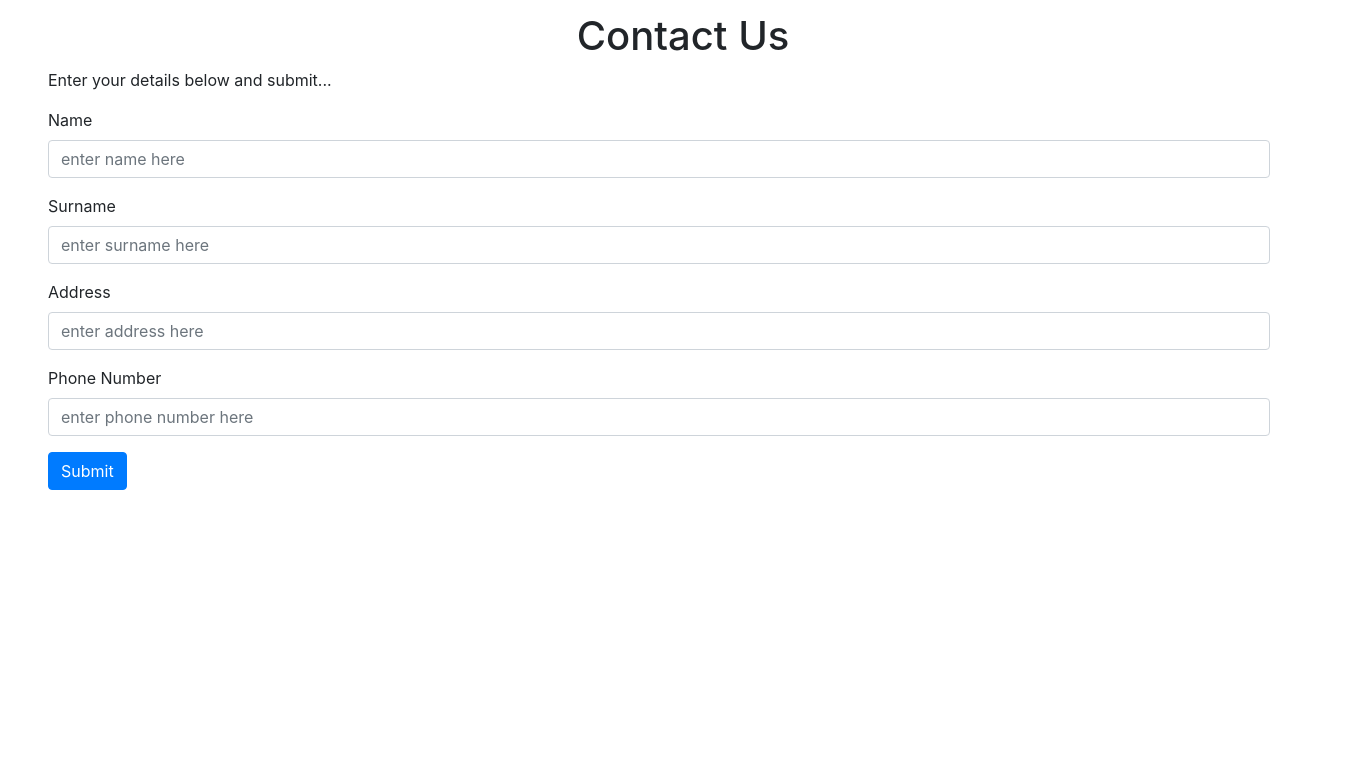
Test case: Contact store › Enter all details into form
This screenshot has width=1366, height=780.
Step 1. Type "Habib" into the field labelled "Name" → (659,159), box [48,140,1270,178]
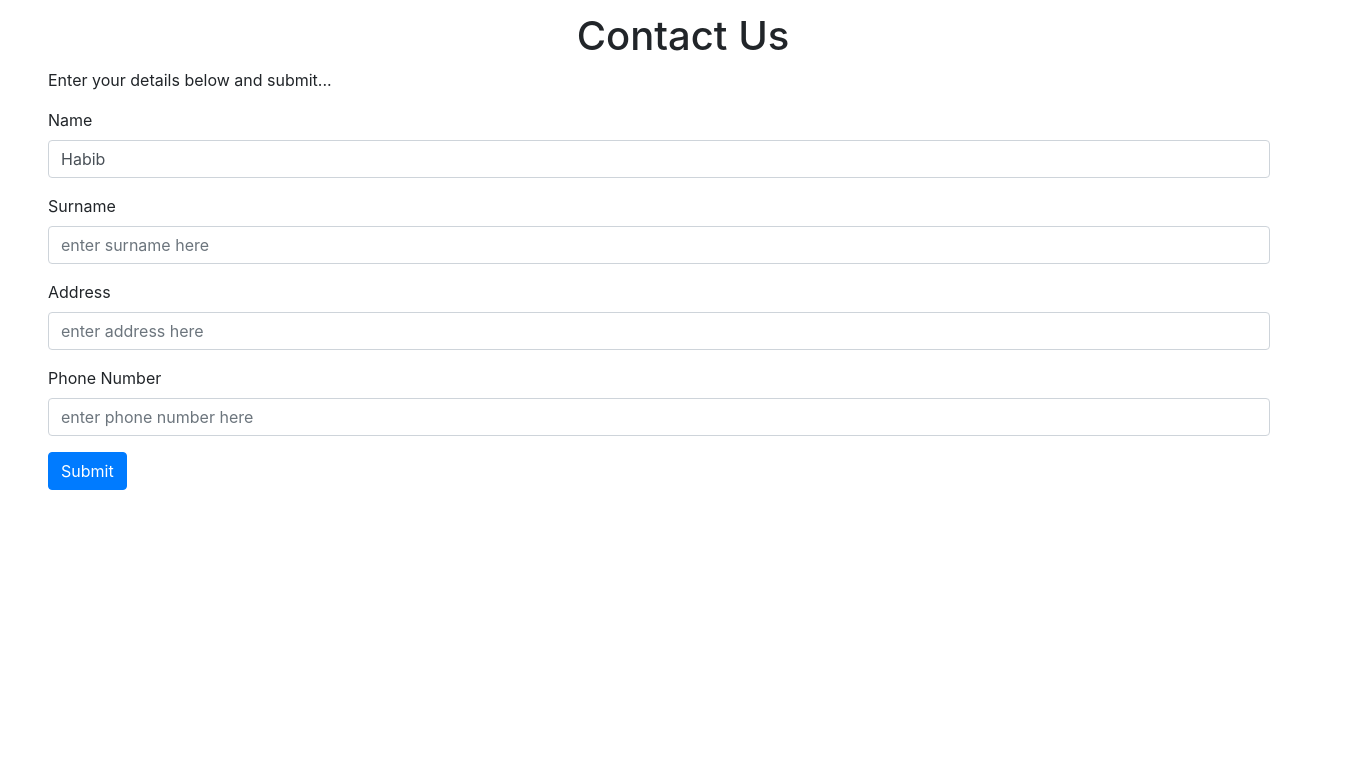
Step 2. Type "Ali" into the field labelled "Surname" → (659,245), box [48,226,1270,264]
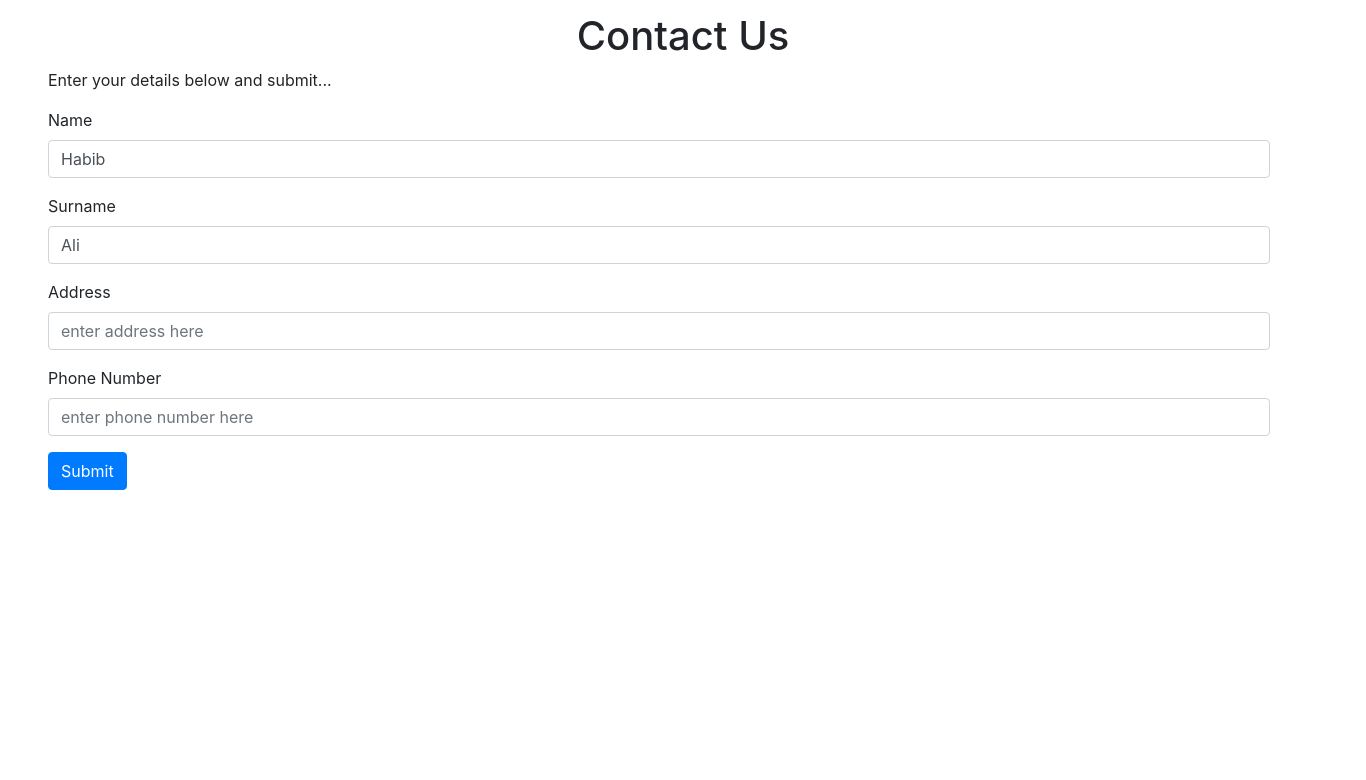
Step 3. Type "Winsford" into the field labelled "Address" → (659,331), box [48,312,1270,350]
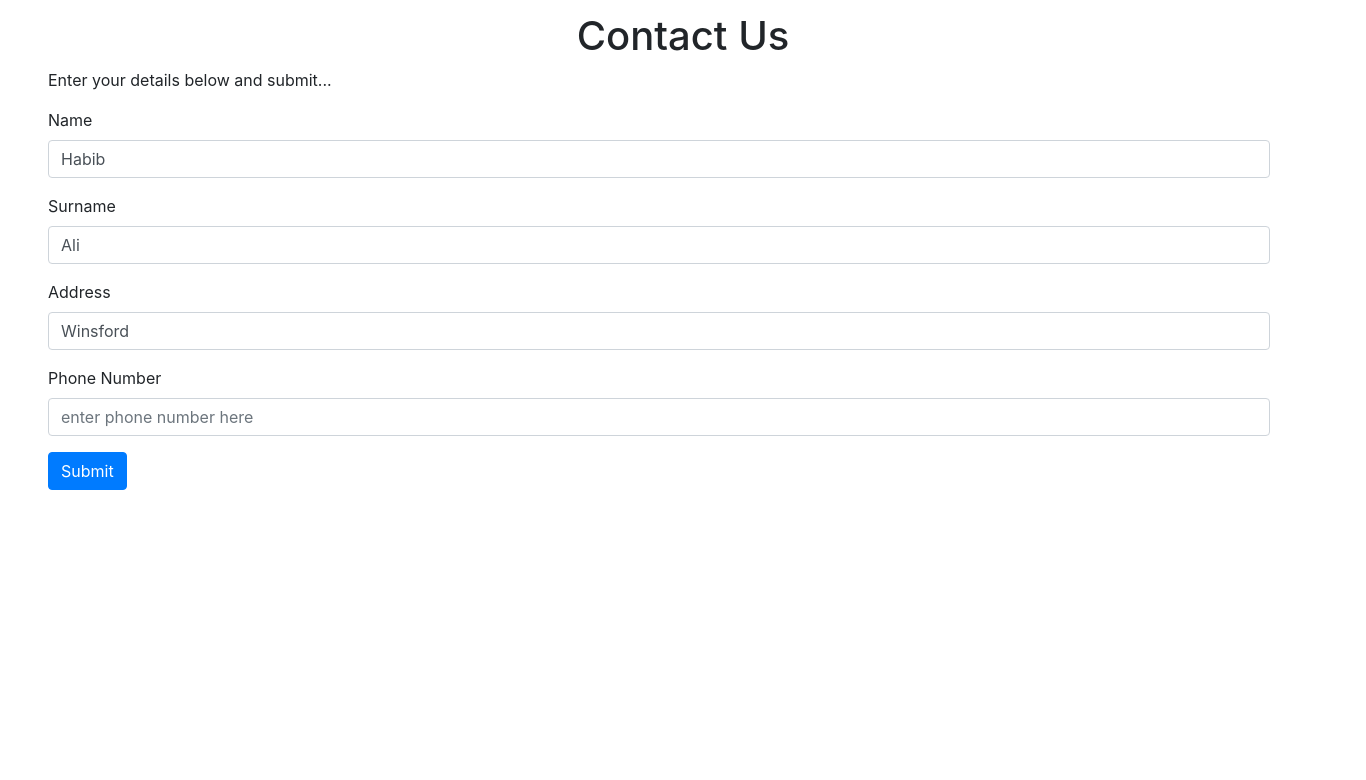
Step 4. Type "0776" into the number field labelled "Phone Number" → (659,417), box [48,398,1270,436]
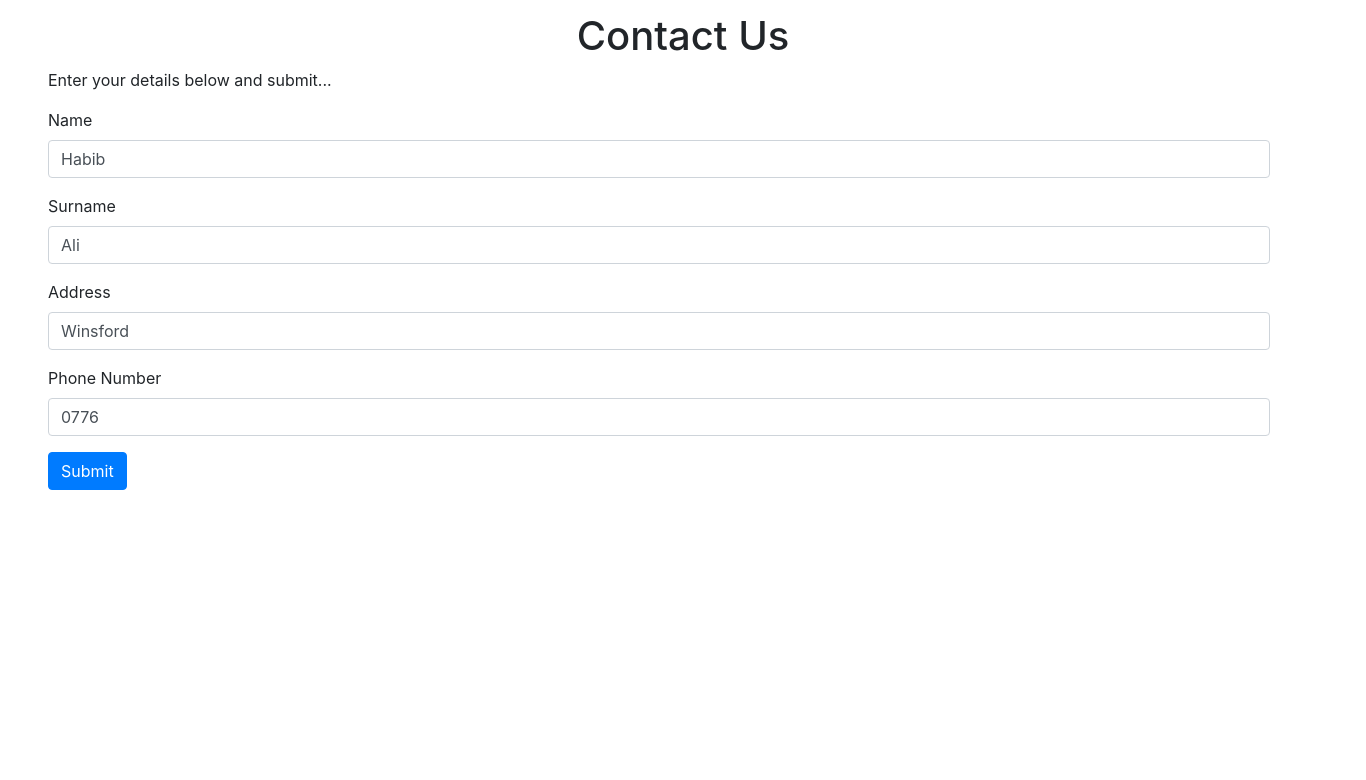
Step 5. Click the button "Submit" → (87,471), box [48,452,127,490]
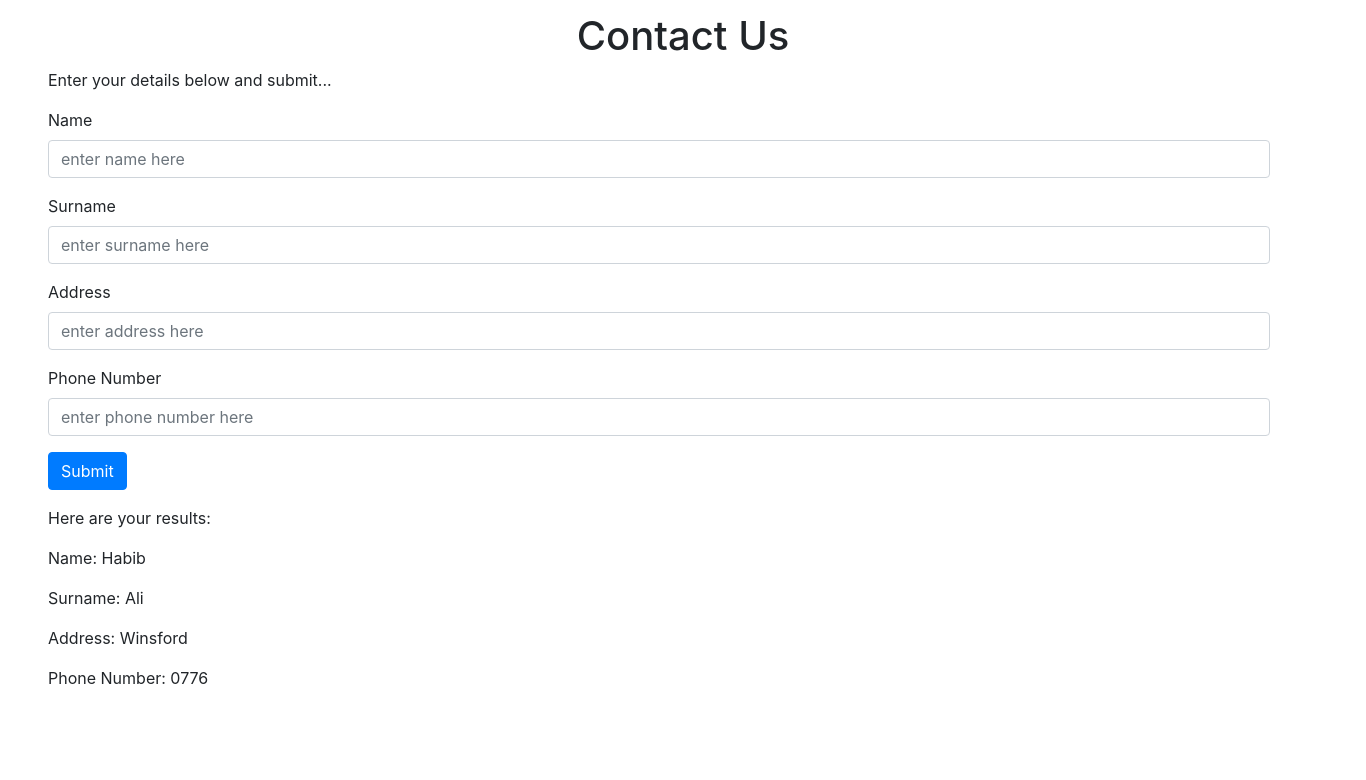
Expected: the text "Name: Habib" is shown, [48,548,146,568]
Expected: the text "Surname: Ali" is shown, [48,588,144,608]
Expected: the text "Address: Winsford" is shown, [48,628,188,648]
